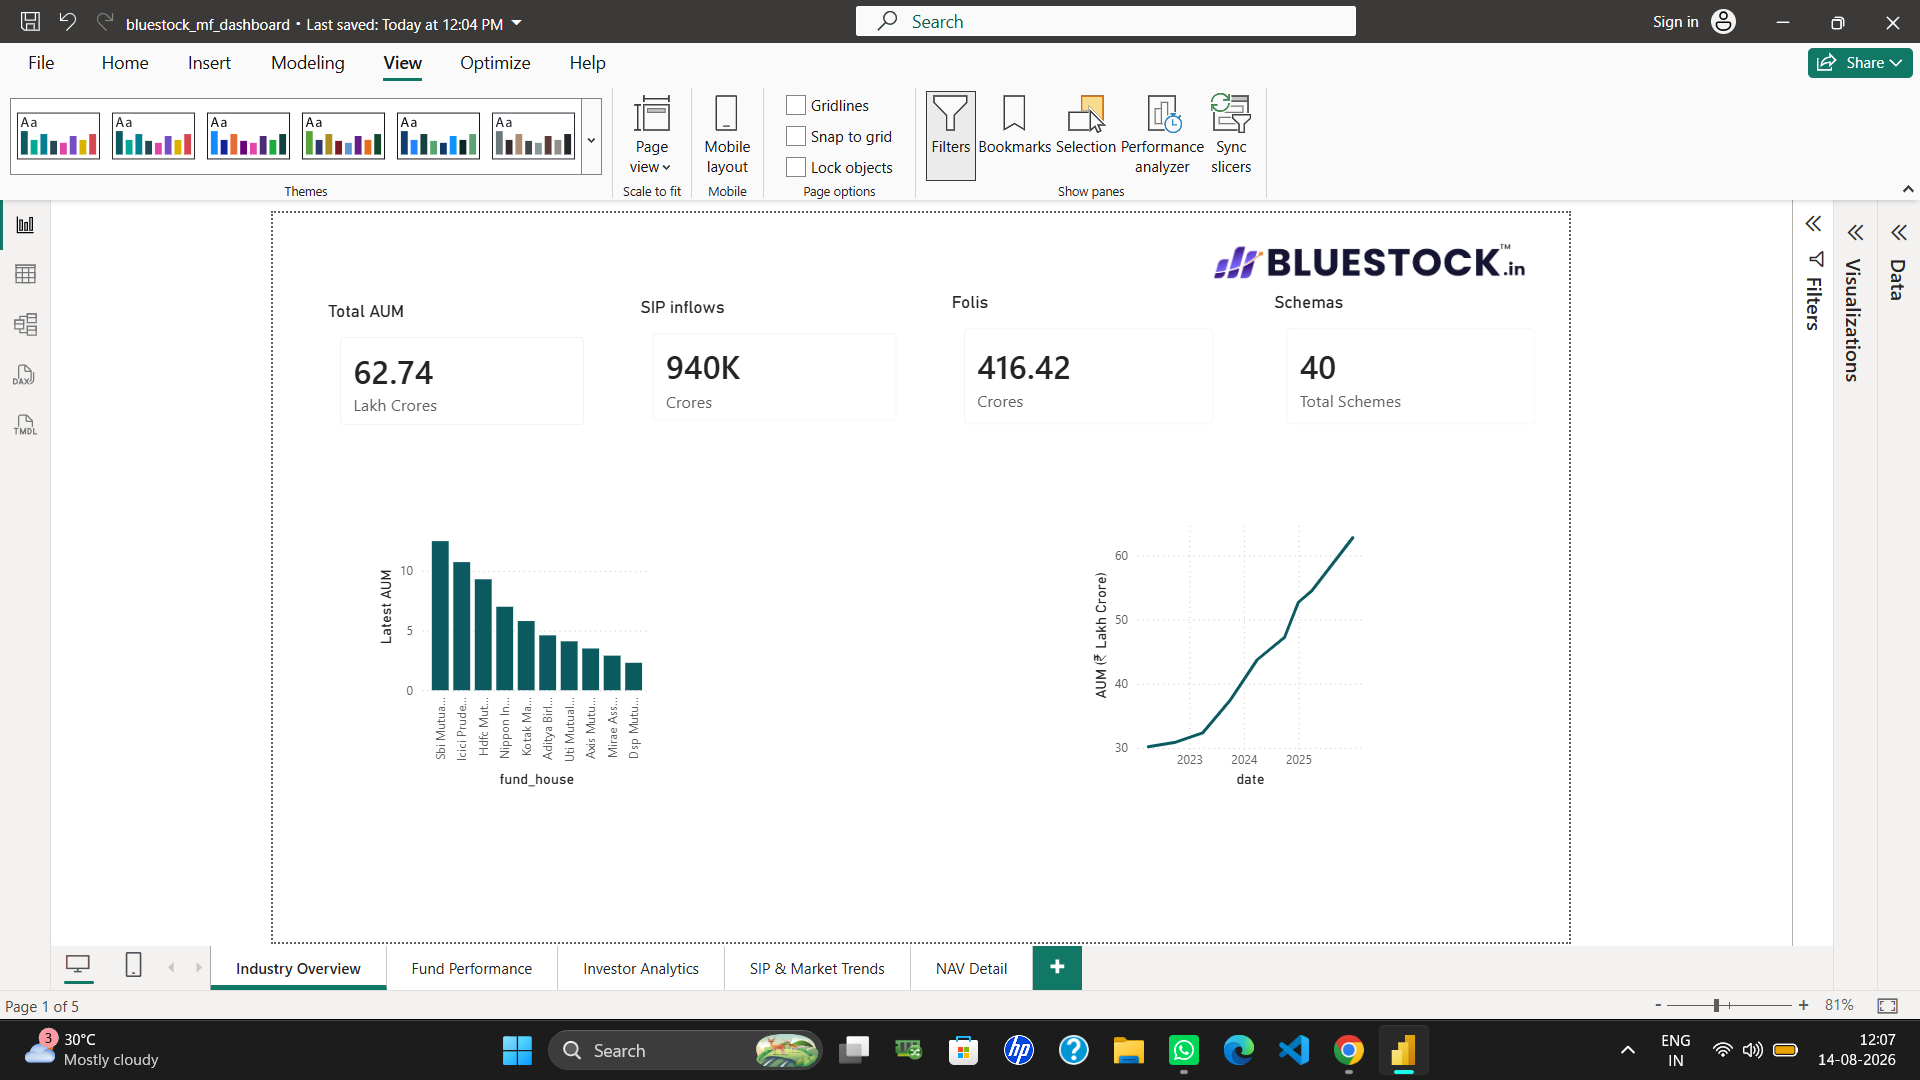

Layout of this report page (visuals, bound fields, positions):
{"tool":"powerbi","page":{"name":"Industry Overview","canvas":[1280,720],"ordinal":0},"visuals":[{"type":"clusteredColumnChart","fields":{"Y":["Cleaned_01_data_fund_master.Latest AUM"],"Category":["Cleaned_03_aum_by_fund_house.fund_house"]},"box":[98.7,292.4,279.7,279.7],"z":0},{"type":"lineChart","fields":{"Y":["Cleaned_01_data_fund_master.Industry AUM"],"Category":["Cleaned_03_aum_by_fund_house.date"]},"box":[805.1,292.4,279.7,279.7],"z":1000},{"type":"cardVisual","title":"Total AUM","fields":{"Data":["Cleaned_01_data_fund_master.Latest AUM"]},"box":[48.9,86.8,275.1,140.6],"z":2000},{"type":"cardVisual","title":"SIP inflows","fields":{"Data":["Sum(Cleaned_04_monthly_sip_inflows.sip_inflow_crore)"]},"box":[358.3,83.2,275.1,139.4],"z":3000},{"type":"cardVisual","title":"Folis","fields":{"Data":["Sum(Cleaned_06_industry_folio_count.total_folios_crore)"]},"box":[665.2,78.3,280,149.2],"z":4000},{"type":"cardVisual","title":"Schemas","fields":{"Data":["Cleaned_01_data_fund_master.Total Schemes"]},"box":[984.4,78.3,280,149.2],"z":5000},{"type":"image","box":[927.9,8.8,310.3,77.9],"z":5001}]}

Visuals, with their boxes on the page's 1280x720 design canvas (x1, y1, x2, y2). These are canvas units, not pixel positions in the 1920x1080 screenshot, which may show the page scaled, cropped or inside an application window:
clusteredColumnChart - Cleaned_01_data_fund_master.Latest AUM x Cleaned_03_aum_by_fund_house.fund_house: crop(99, 292, 378, 572)
lineChart - Cleaned_01_data_fund_master.Industry AUM x Cleaned_03_aum_by_fund_house.date: crop(805, 292, 1085, 572)
"Total AUM" cardVisual: crop(49, 87, 324, 227)
"SIP inflows" cardVisual: crop(358, 83, 633, 223)
"Folis" cardVisual: crop(665, 78, 945, 228)
"Schemas" cardVisual: crop(984, 78, 1264, 228)
image: crop(928, 9, 1238, 87)
